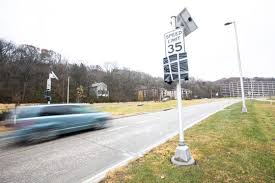speedLimit35: (165, 26, 184, 54)
